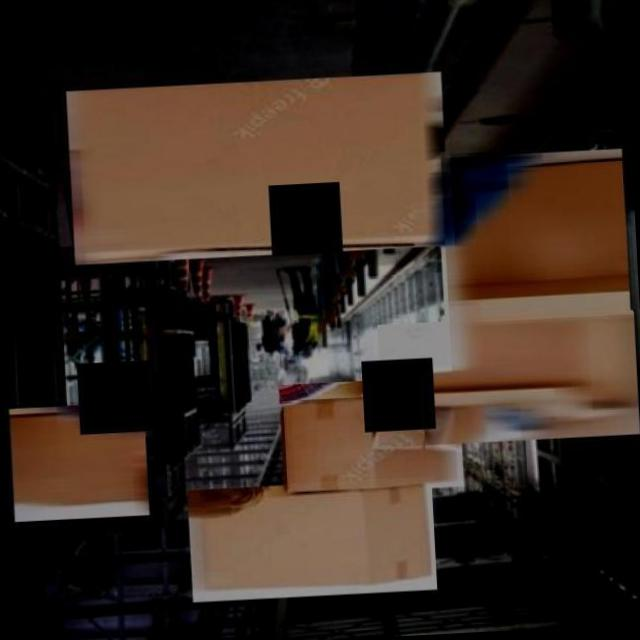box: (59, 68, 456, 268), (373, 307, 640, 447), (432, 144, 634, 325), (182, 476, 441, 602), (275, 372, 466, 498), (5, 399, 152, 524)
